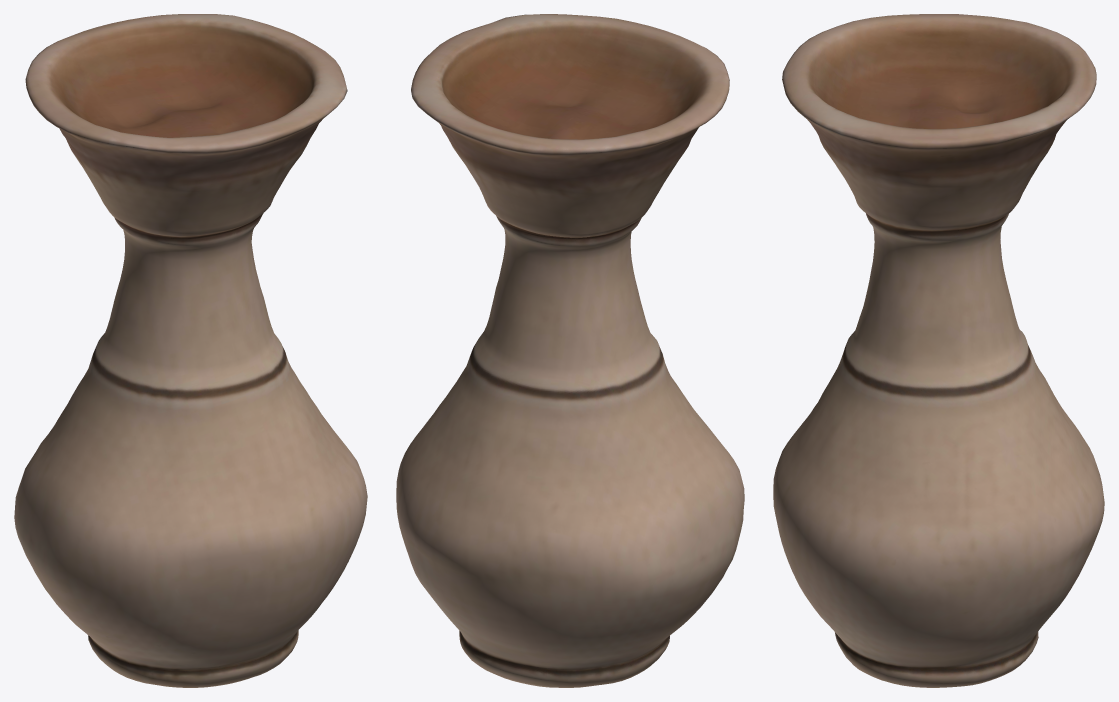
The model's file is a4e3ac1fbd7e_vase__3d_asset_0_gl.fbx.
3 renders of one model, left to right at view 1: azimuth 30°, elevation 25°; view 2: azimuth 150°, elevation 25°; view 3: azimuth 270°, elevation 25°, orthographic.
Parts seen in each view (by area): view 1: mesh; view 2: mesh; view 3: mesh.
Boxes of the visible parts, x1,y1,x2,y2 form: mesh: (14,14,367,687); mesh: (396,14,744,687); mesh: (773,14,1104,687).
Bounding box in the file's own units: 54.9 × 99.96 × 52.15.
